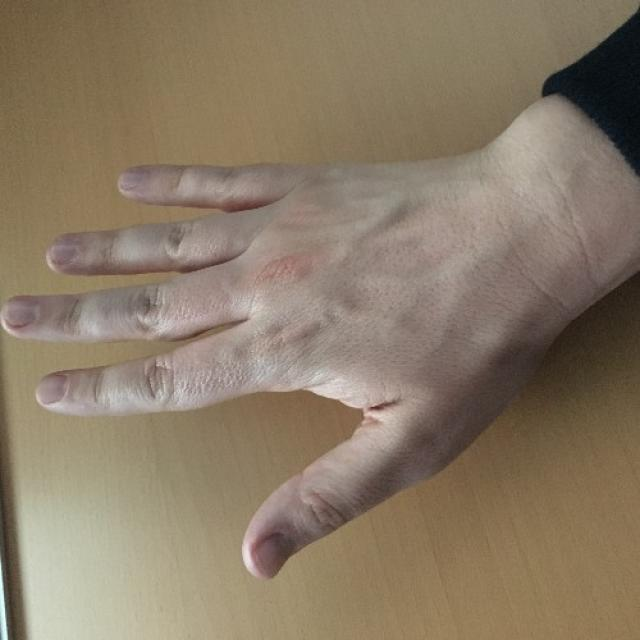paper: (1, 156, 534, 584)
